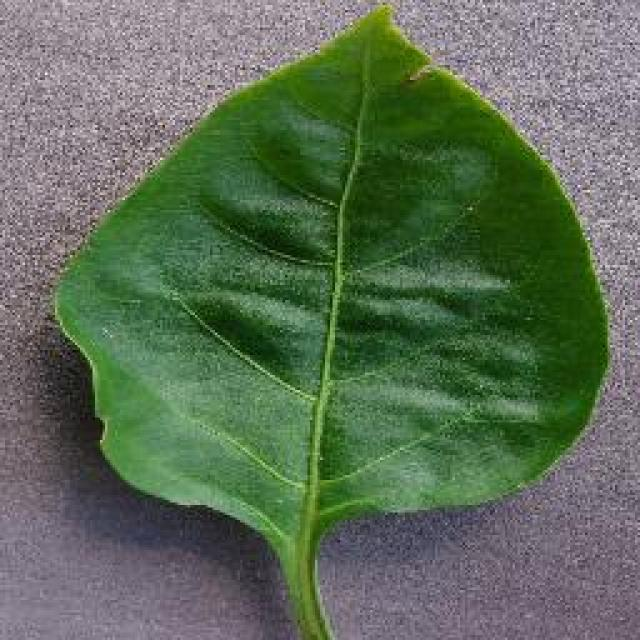Chilli_Healthy: (50, 0, 612, 638)
